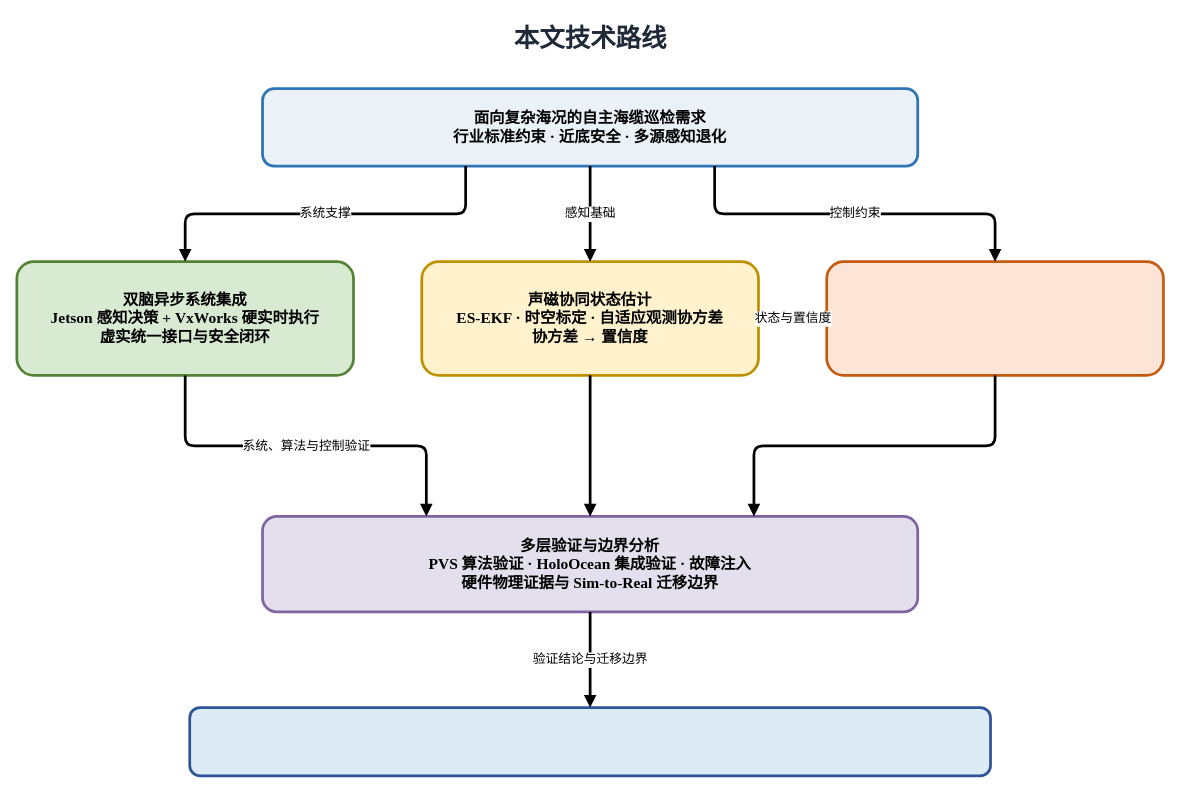
This 1180x793 diagram has some shape labels left out. The box of each missing label's shape, as (x1, y1, x2, y2) in pixels:
分层决策与不确定性感知控制 行为树调度 · 之字形搜索 · UA-MPC 安全仲裁与降级/自救: (825, 260, 1164, 376)
目标：形成可解释、可验证、可迁移的 AUV 自主海缆巡检方法体系: (188, 706, 991, 777)
